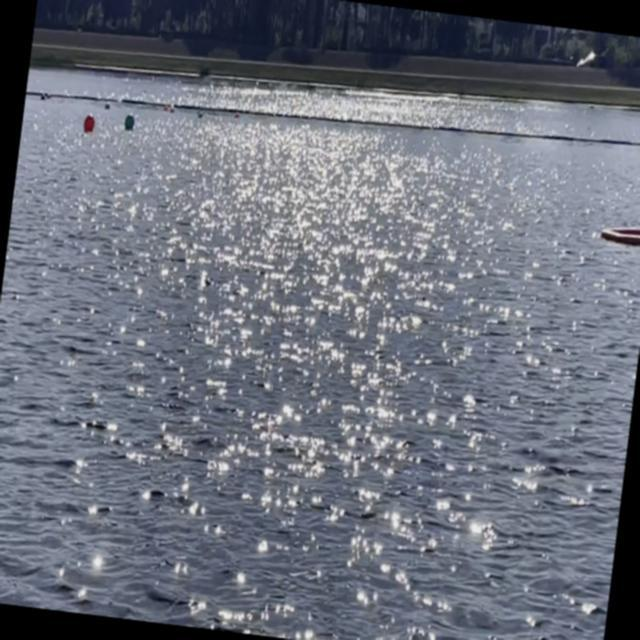buoy: (82, 112, 97, 134), (124, 112, 136, 132), (39, 93, 45, 100)
